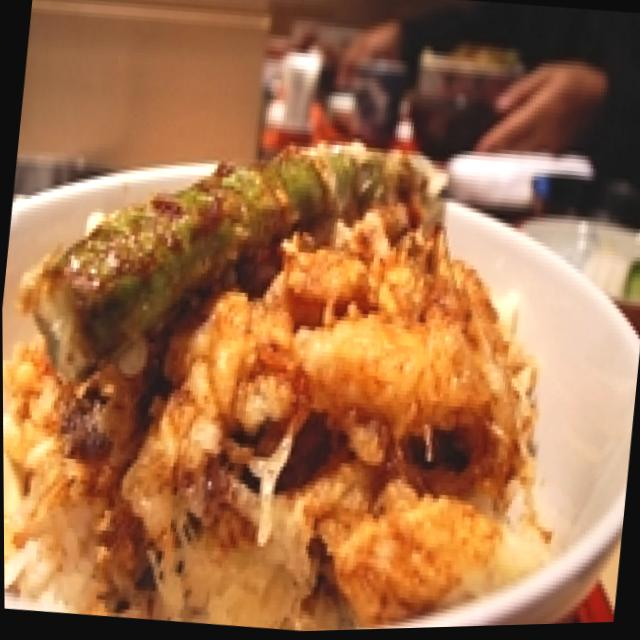熟制海鲜: (1, 89, 640, 640)
